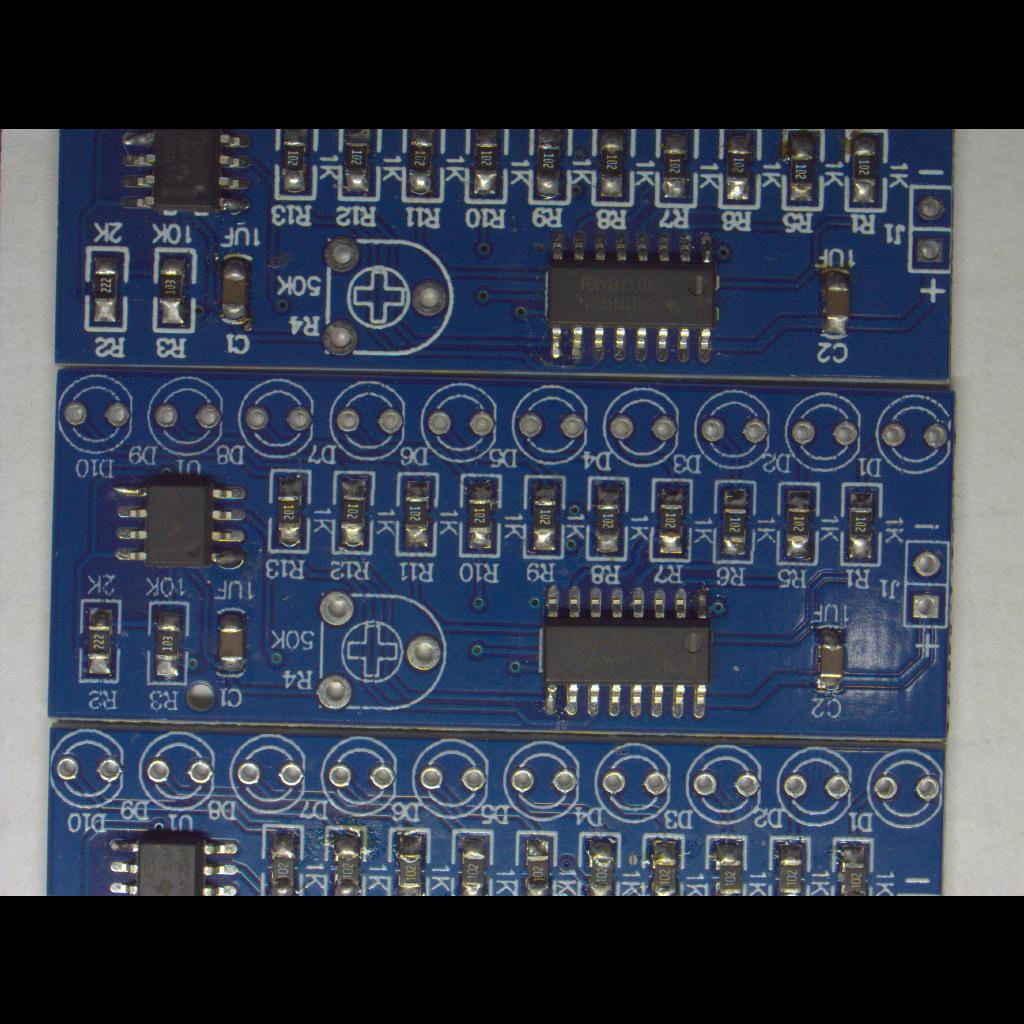OK: (538, 222, 726, 370), (538, 578, 716, 726), (108, 471, 254, 575), (110, 128, 260, 220), (100, 822, 246, 896), (518, 472, 570, 562), (82, 242, 132, 334), (646, 474, 696, 566), (267, 464, 315, 558), (329, 466, 377, 560), (150, 247, 200, 335), (392, 468, 440, 558), (457, 471, 505, 561), (774, 478, 822, 568), (144, 598, 192, 688), (836, 478, 884, 568), (584, 474, 632, 564), (712, 476, 758, 568), (78, 596, 124, 688), (460, 128, 514, 206), (779, 128, 829, 212), (842, 128, 890, 214), (589, 128, 639, 208), (334, 128, 386, 204), (716, 128, 764, 210), (526, 128, 576, 206), (398, 128, 448, 204), (257, 820, 307, 896), (654, 128, 700, 210), (272, 128, 320, 204), (448, 824, 498, 896), (322, 822, 370, 896), (384, 826, 434, 896), (640, 830, 690, 896), (576, 828, 624, 896), (514, 828, 560, 896), (212, 604, 252, 682), (766, 832, 814, 896), (702, 832, 750, 896), (217, 250, 255, 330), (829, 834, 877, 896), (816, 264, 854, 342), (812, 620, 848, 700)
